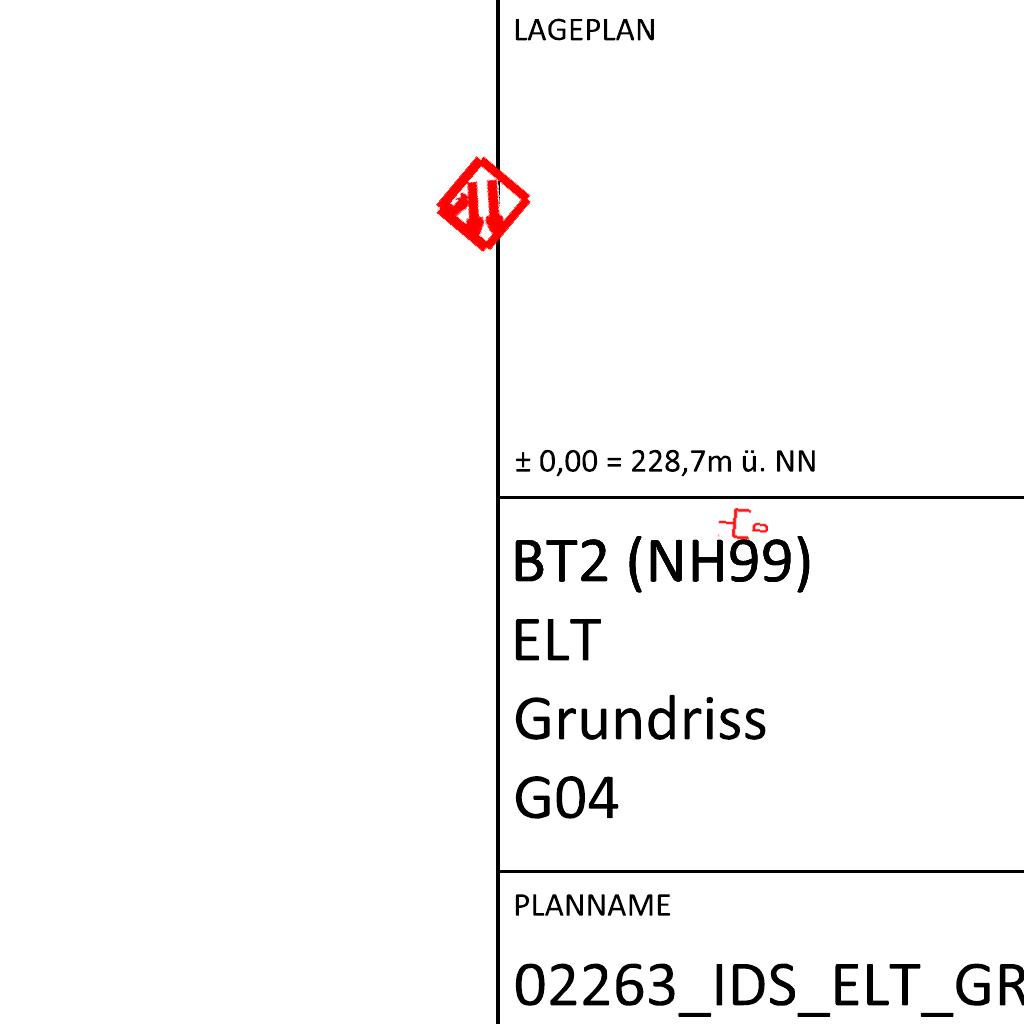Datenanschluss_einfach: (716, 504, 770, 544)
OT_Multisensormelder_(Kombination_RMO_WMD): (401, 125, 562, 286)
